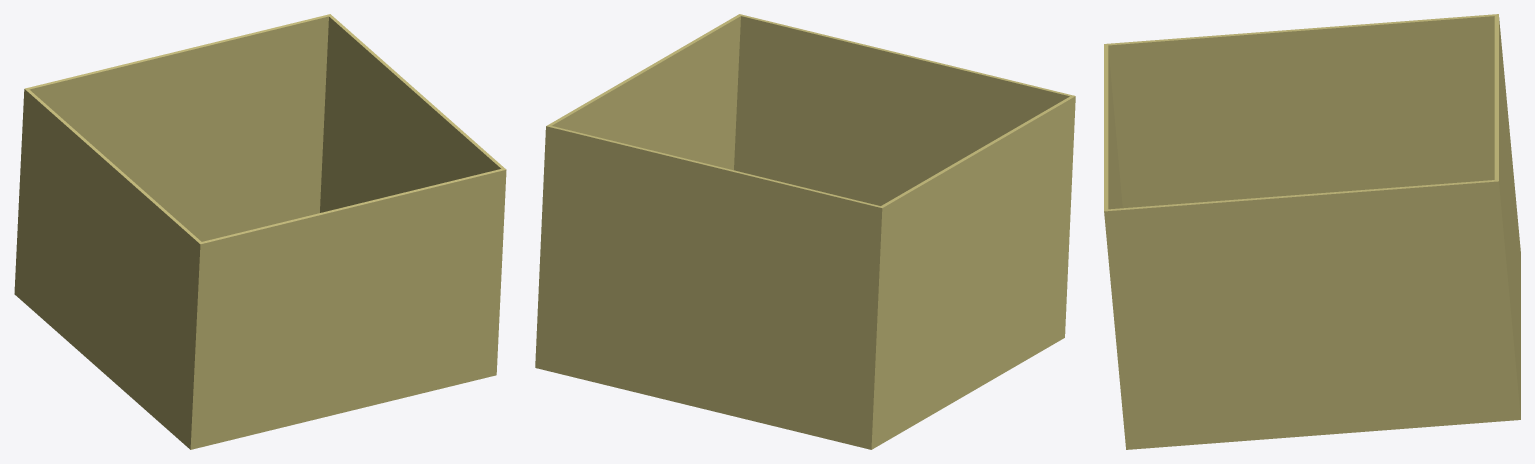
Rendered from papierowePudelko.fbx.
The picture shows the model from 3 angles, left to right: view 1: azimuth 30°, elevation 25°; view 2: azimuth 150°, elevation 25°; view 3: azimuth 270°, elevation 25°; orthographic projection. The views are drawn at different scales.
Visible parts, largest first — view 1: Cube; view 2: Cube; view 3: Cube.
Part boxes in pixels (bbox=[...]): Cube: bbox=[14, 14, 506, 449]; Cube: bbox=[535, 14, 1075, 449]; Cube: bbox=[1104, 14, 1520, 449].
Size of the model in its own units: 6 by 4.49 by 6.31.
